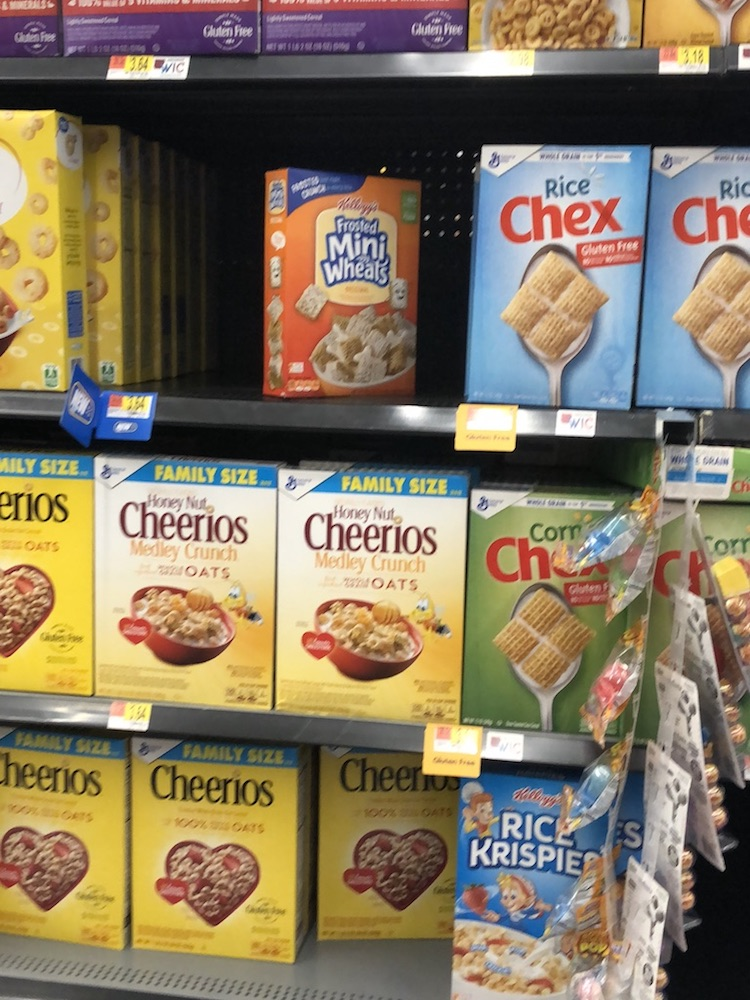Frosted Mini Original -9295869: (262, 188, 416, 403)
